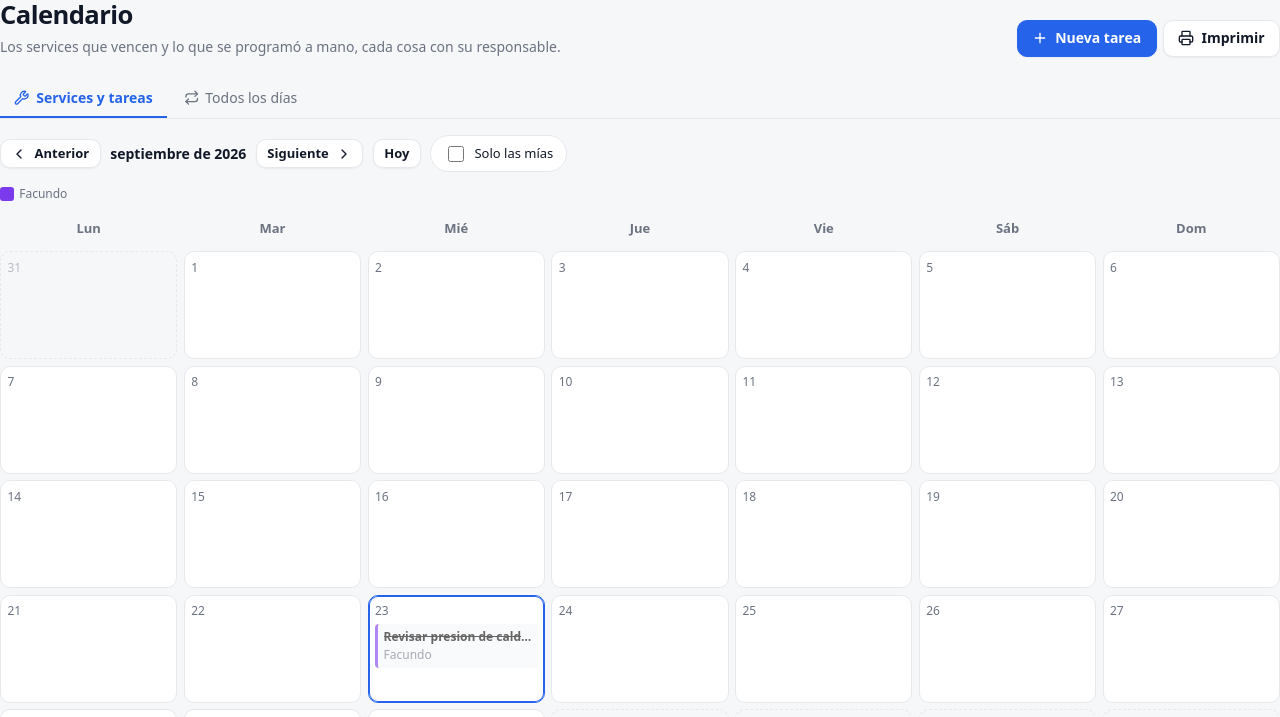
CalendarioPage › una tarea hecha muestra la orden de trabajo que quedo
The image size is (1280, 717).
Click the text "Revisar presion de caldera".
click(458, 637)  # box [384,628,532,646]
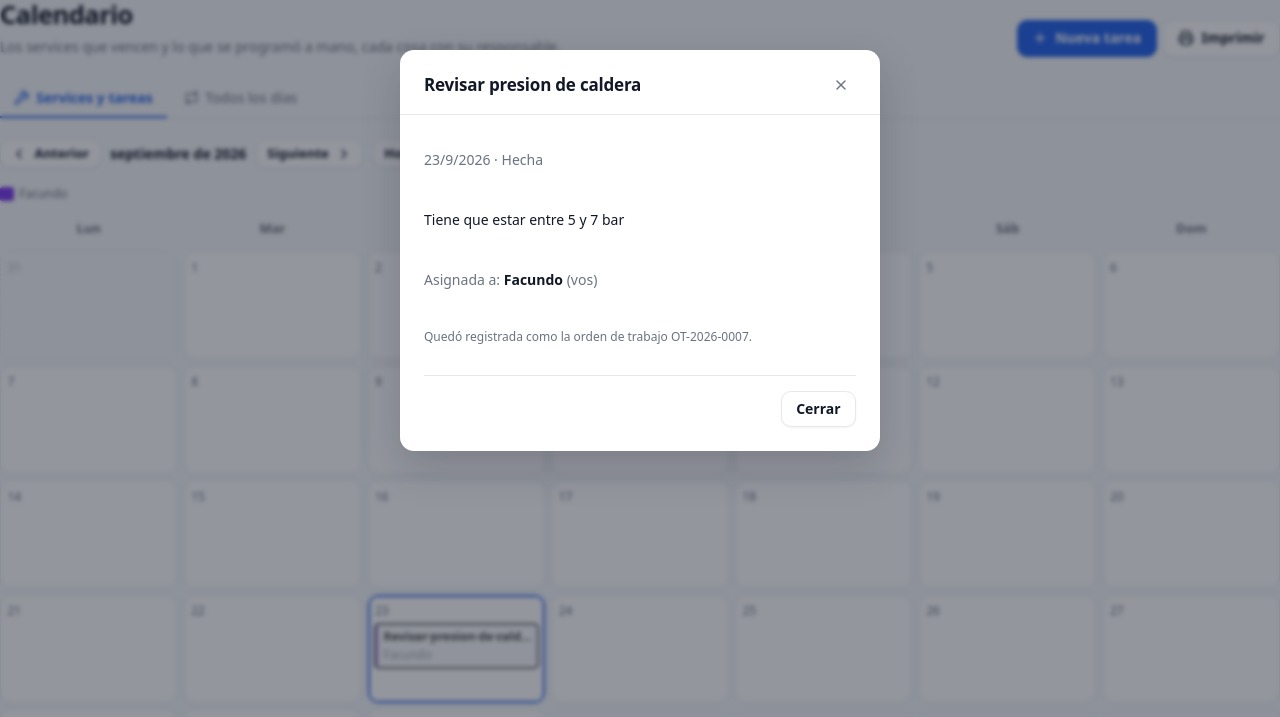
Check: the text "Quedó registrada como la orden de trabajo OT-2026-0007." is shown, box [424,328,752,344]
